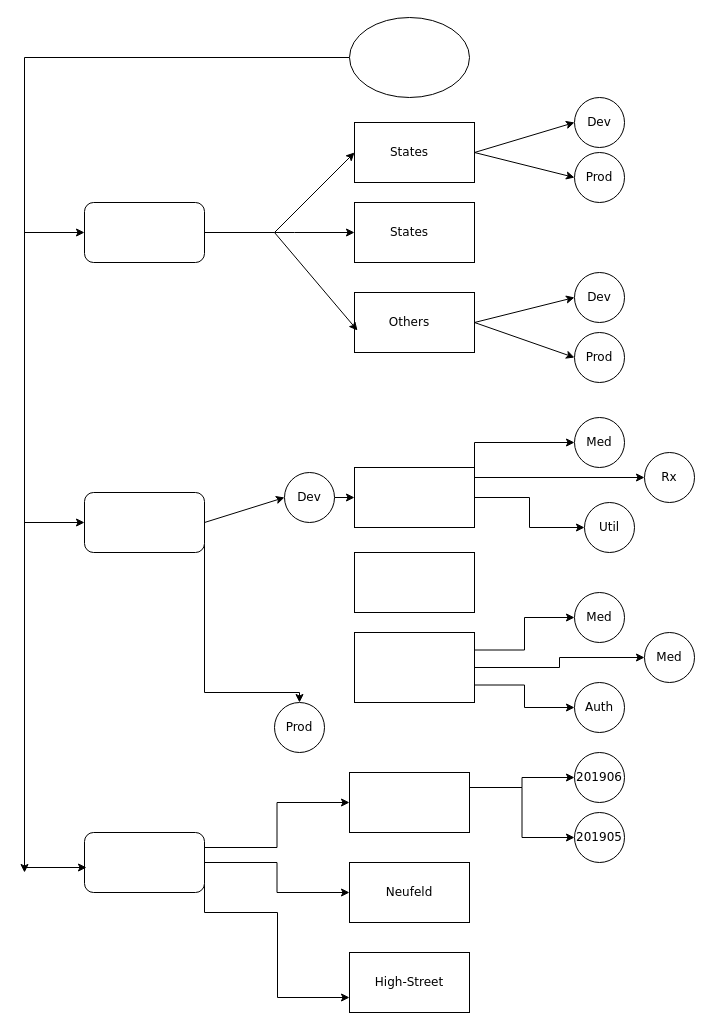
This 712x1030 diagram has some shape labels left out. Each missing label, with the box of its shape:
Common: (354, 466, 474, 528)
Front-end: (354, 552, 474, 612)
Legal: (84, 832, 204, 892)
Market Conduct: (84, 202, 204, 262)
Regal(Repository): (348, 16, 470, 98)
Self-Service: (84, 492, 204, 552)
SQL Toad: (354, 632, 474, 702)
Sutter: (348, 772, 470, 832)
